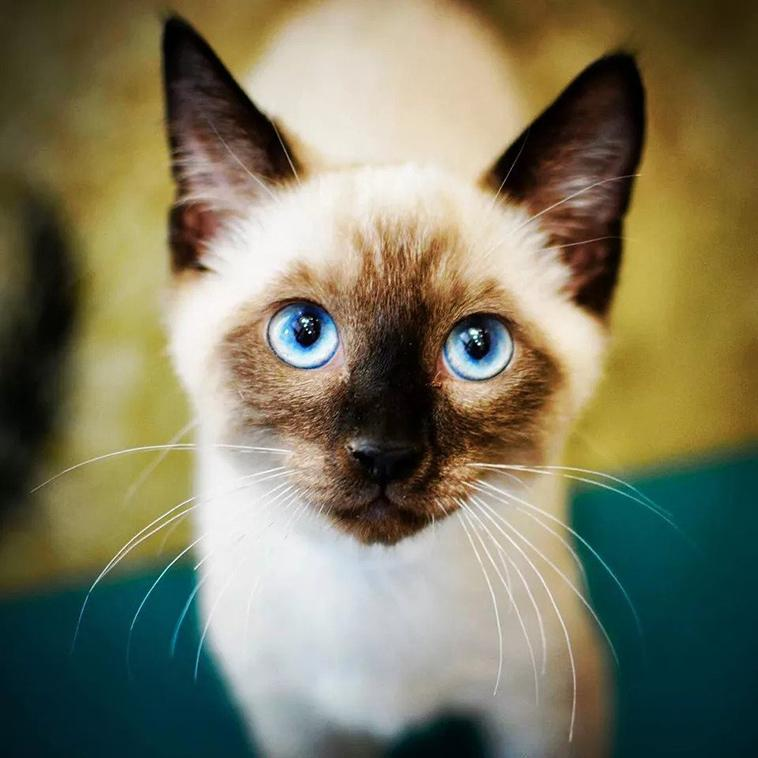siamese: (148, 15, 664, 544)
